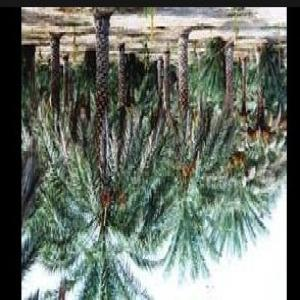palm tree: (20, 13, 286, 298)
